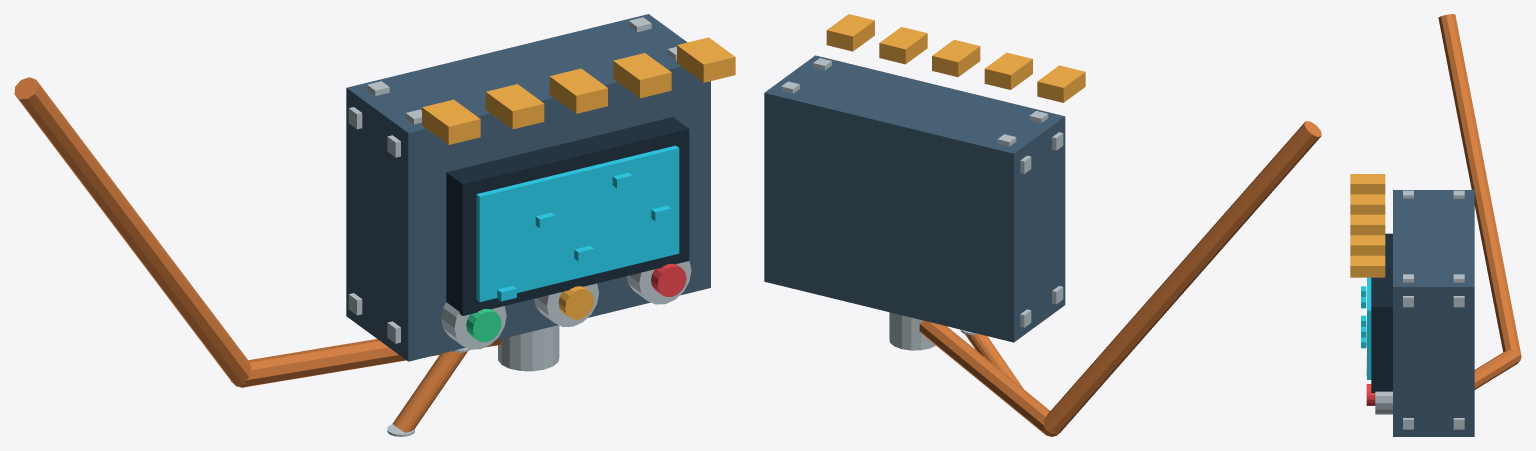
The model's file is 37_L75_WaferTemperatureSensor.fbx.
The picture shows the model from 3 angles, left to right: view 1: azimuth 30°, elevation 25°; view 2: azimuth 150°, elevation 25°; view 3: azimuth 270°, elevation 25°; orthographic projection. The views are drawn at different scales.
Visible parts, largest first — view 1: WaferTemperatureSensor; view 2: WaferTemperatureSensor; view 3: WaferTemperatureSensor.
Boxes of the visible parts, x1,y1,x2,y2 form: WaferTemperatureSensor: [14, 14, 735, 436]; WaferTemperatureSensor: [764, 14, 1321, 436]; WaferTemperatureSensor: [1350, 14, 1521, 436].
Size of the model in its own units: 114 by 71.98 by 39.
